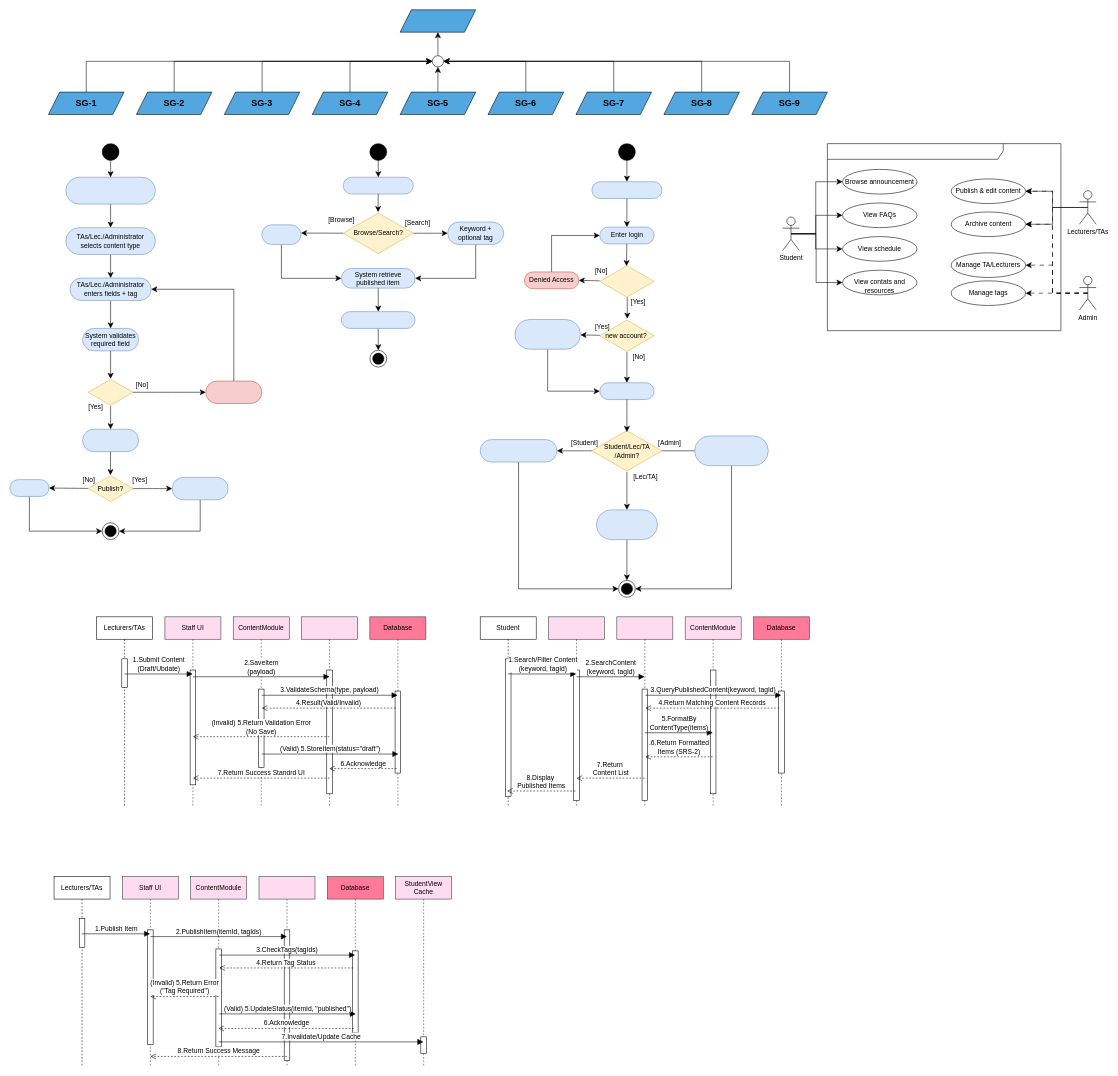
Image size: 1118x1076. Some labels were removed from this diagram. The box of each missing label's shape, as (x1, y1, x2, y2) in pixels:
correct login?: (599, 265, 654, 298)
Department Information & Communication Hub: (827, 143, 1061, 331)
G-0: (400, 9, 476, 32)
Item visible to student: (172, 477, 228, 500)
Save draft: (9, 479, 49, 496)
SearchModule: (616, 616, 673, 806)
Select a section: (261, 224, 301, 244)
Show validation error: (205, 381, 262, 403)
Student UI: (548, 616, 605, 806)
Sudent open the hub: (343, 177, 413, 194)
System check status: (599, 382, 654, 400)
System create new account in database: (514, 319, 580, 349)
System display results: (341, 311, 415, 328)
System Saves content item: (82, 429, 139, 452)
System will allow Content + Tag + Lec/TA management: (694, 435, 768, 466)
System will display only published content: (480, 439, 557, 462)
System will only allow content management: (596, 509, 657, 540)
TagModule: (258, 876, 315, 1066)
TAs/Lec./Administrator open content management: (65, 177, 155, 204)
User open web: (591, 181, 662, 199)
Valid?: (88, 378, 133, 406)
ValidationEngine: (301, 616, 358, 806)
